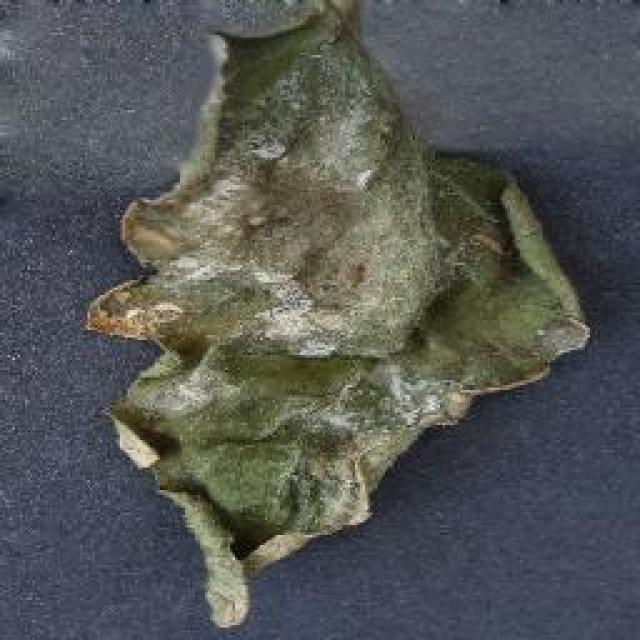Tomato___Late_blight: (82, 0, 592, 632)
